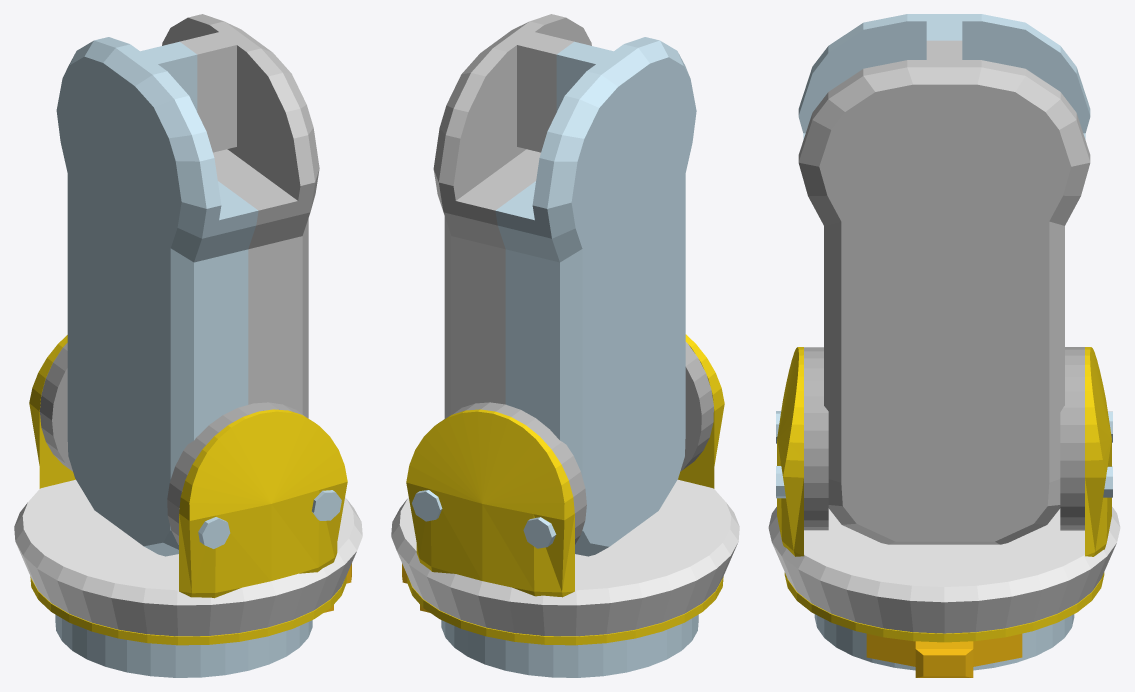
3 views of the same model, side by side, from view 1: azimuth 30°, elevation 25°; view 2: azimuth 150°, elevation 25°; view 3: azimuth 270°, elevation 25° (orthographic).
Parts seen in each view (by area): view 1: Cube, Base.001, Mount, Plug, Base, Mount.001, Mount.002, Mount.003, MountScrew.003, MountScrew.001; view 2: Cube, Base.001, Mount.003, Plug, Base, Mount.002, Mount.001, Mount, MountScrew, MountScrew.002; view 3: Cube, Base.001, Button, Mount.003, Mount, Mount.002, Mount.001, Base, Plug.
Boxes of the visible parts, <box> form: Cube: <box>56,14,319,556</box>; Base.001: <box>14,479,362,636</box>; Mount: <box>179,409,347,598</box>; Plug: <box>55,614,312,677</box>; Base: <box>30,576,346,645</box>; Mount.001: <box>39,343,72,471</box>; Mount.002: <box>167,402,305,544</box>; Mount.003: <box>29,335,75,488</box>; MountScrew.003: <box>198,517,230,548</box>; MountScrew.001: <box>311,490,341,520</box>; Cube: <box>433,14,696,556</box>; Base.001: <box>391,479,739,636</box>; Mount.003: <box>406,409,574,635</box>; Plug: <box>441,614,698,677</box>; Base: <box>407,576,723,645</box>; Mount.002: <box>680,342,713,471</box>; Mount.001: <box>444,402,586,544</box>; Mount: <box>678,334,724,488</box>; MountScrew: <box>523,517,556,548</box>; MountScrew.002: <box>412,490,442,521</box>; Cube: <box>798,14,1090,544</box>; Base.001: <box>768,507,1120,633</box>; Button: <box>866,633,1022,677</box>; Mount.003: <box>1085,347,1111,556</box>; Mount: <box>777,347,803,556</box>; Mount.002: <box>804,347,828,530</box>; Mount.001: <box>1060,347,1084,530</box>; Base: <box>784,572,1104,642</box>; Plug: <box>814,614,1074,670</box>.
Size of the model in its own units: 0.079 by 0.0785 by 0.1425.
